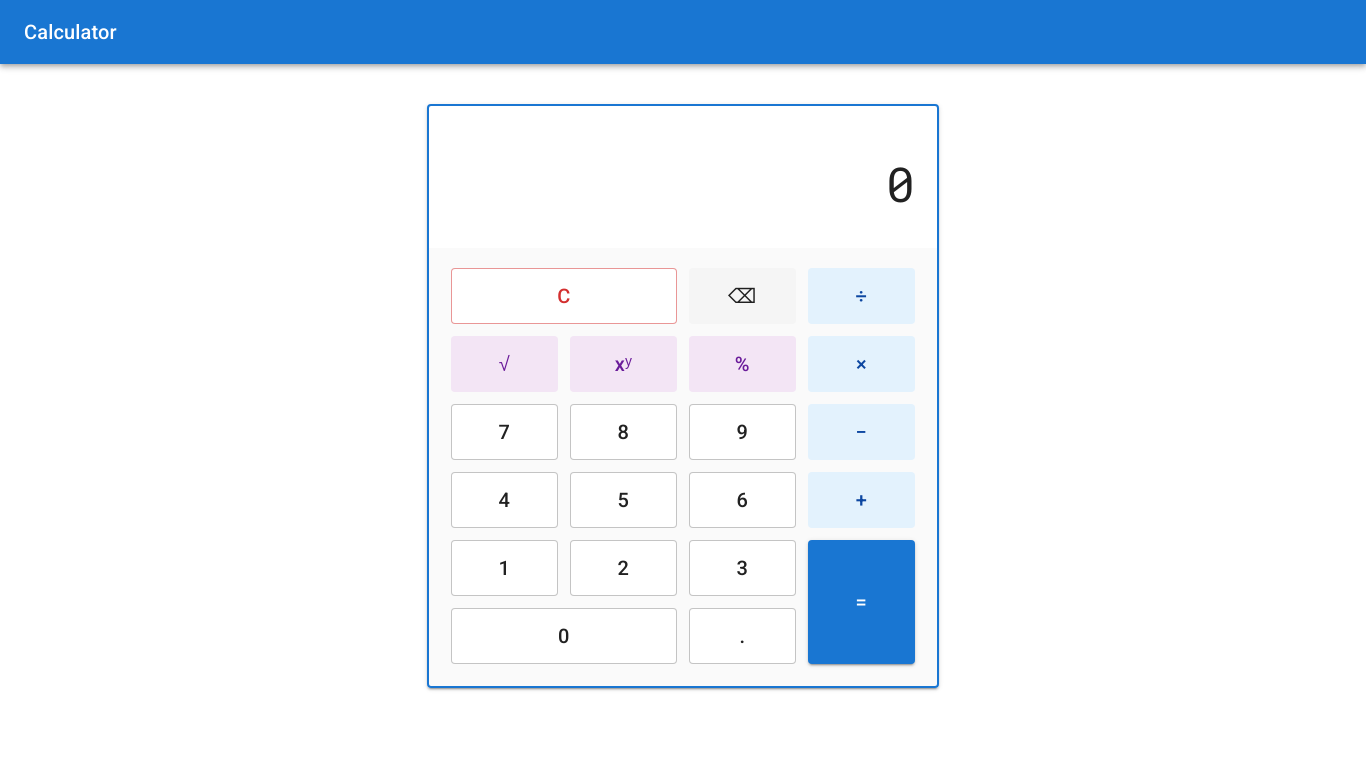
Test: results the backend sends in exponent form › shows a tiny result as plain digits
Click the button "2": (624, 568) [570,540,677,596]
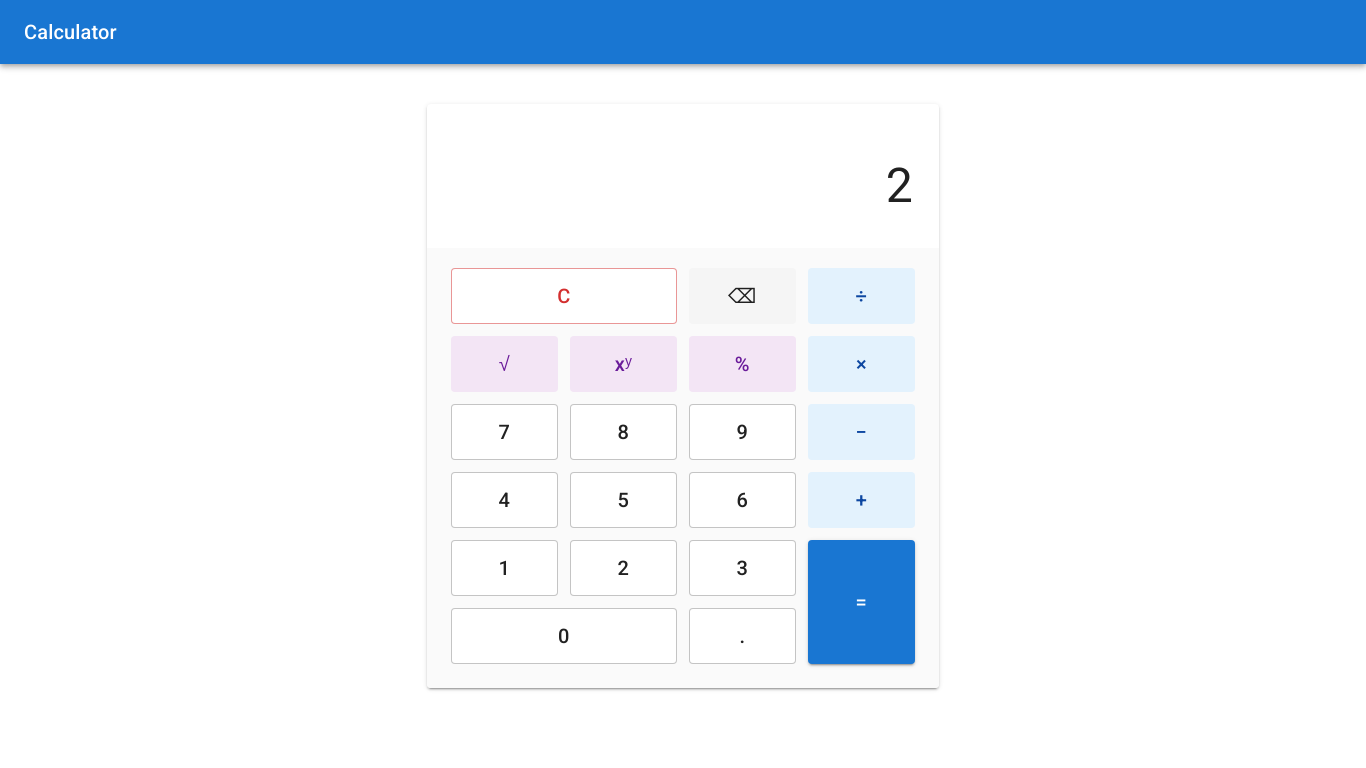
Click the button named "Plus": (862, 500) [808,472,915,528]
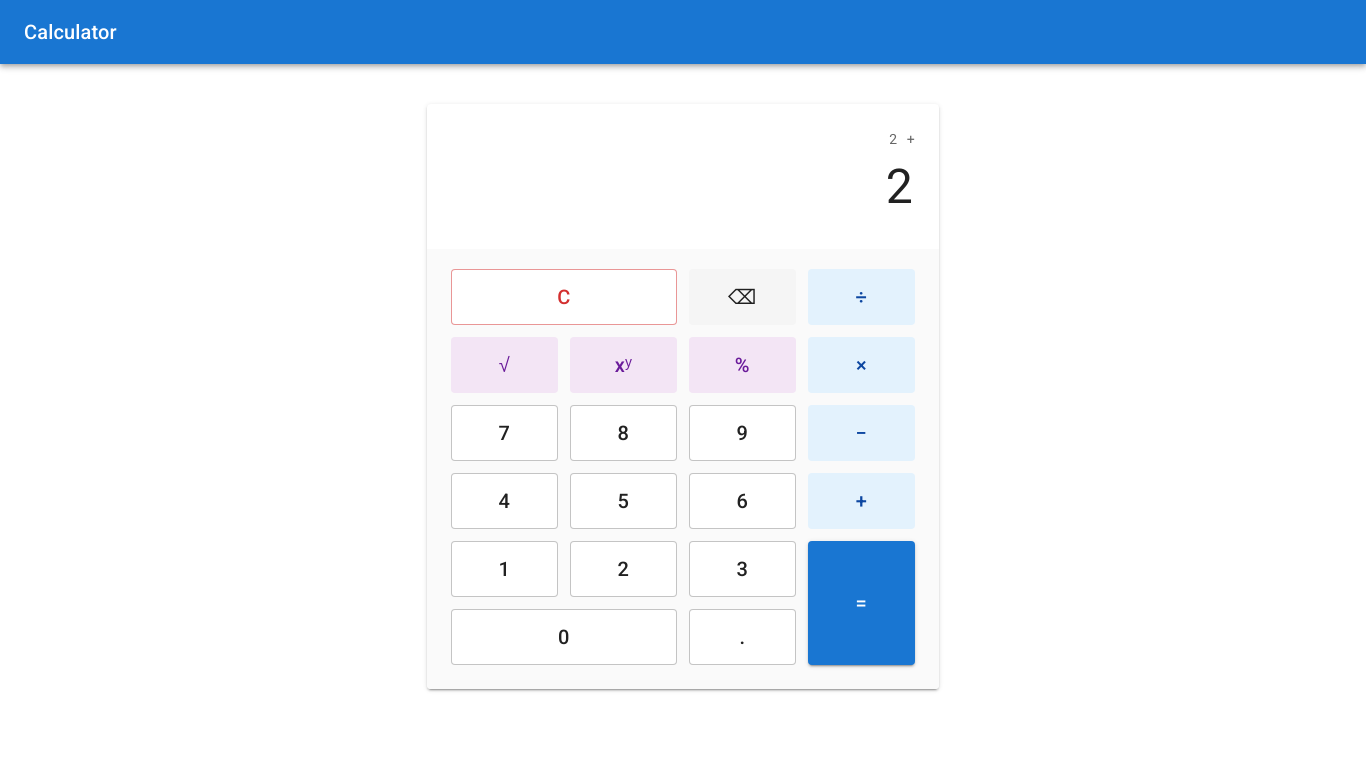
Click the button "3": (742, 569) [689,541,796,597]
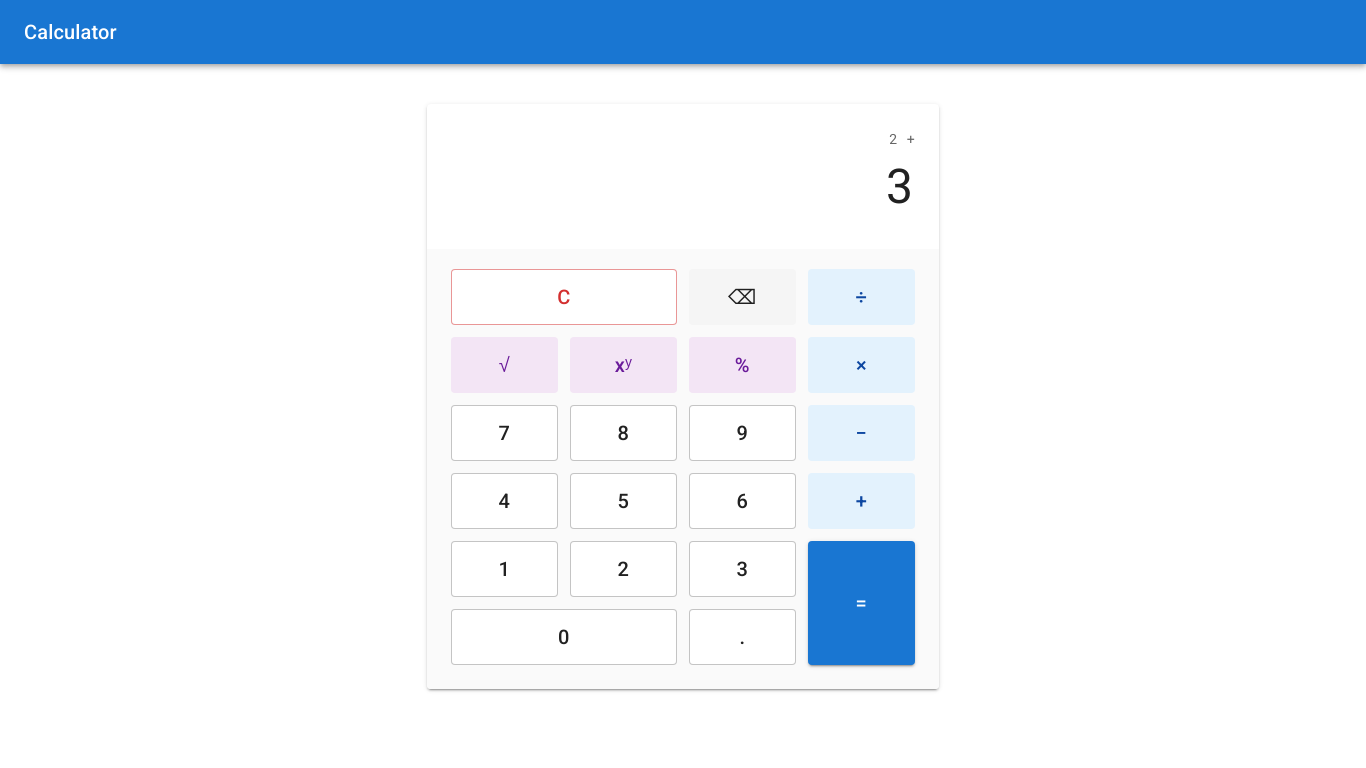
Click the button named "Equals": (862, 603) [808,541,915,665]
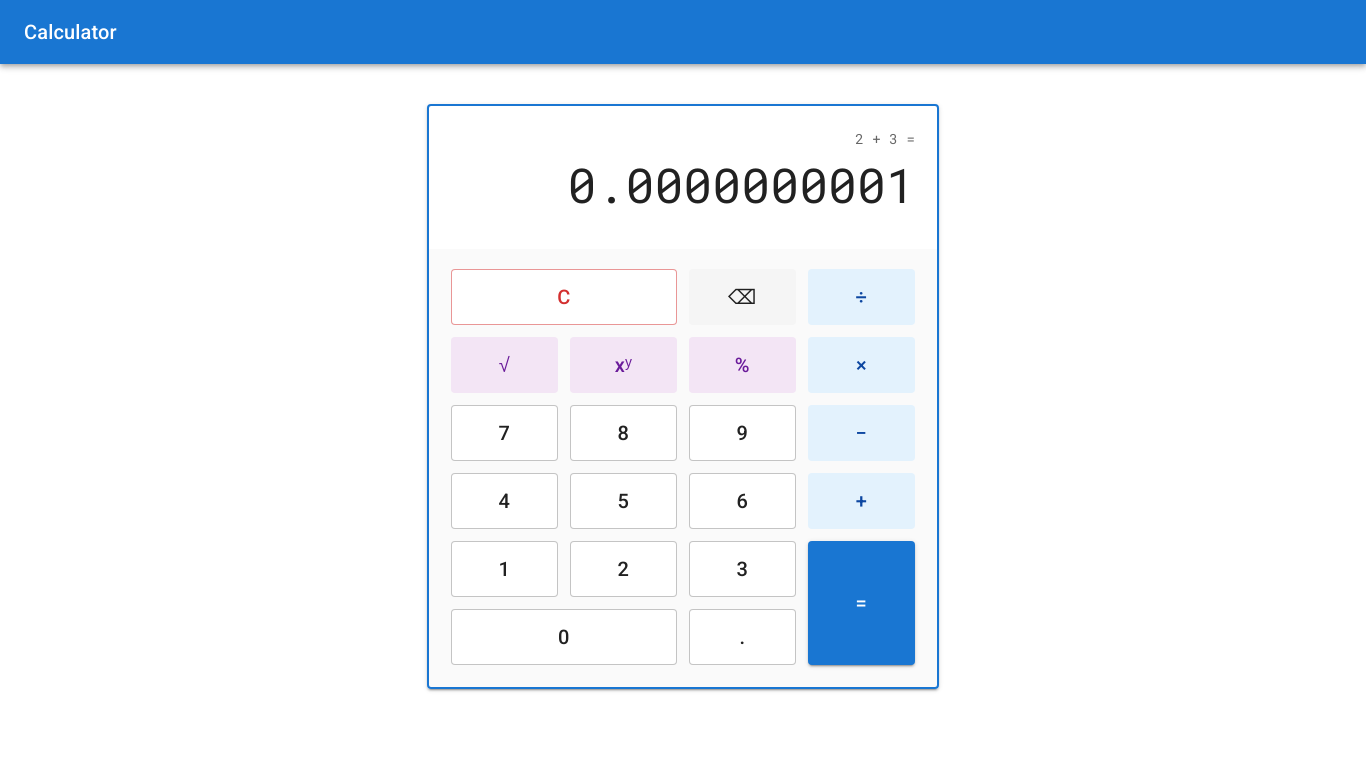
Expected: the text with test id "value" reads "0.0000000001", [568,153,915,216]
